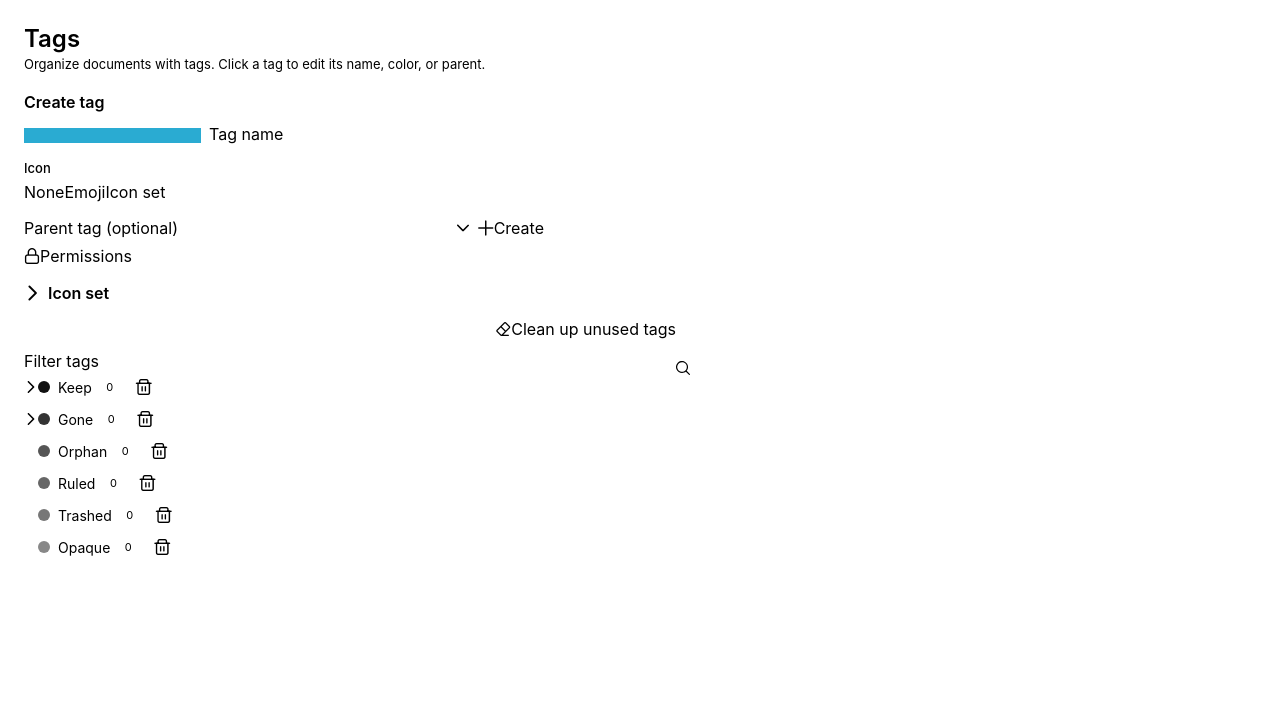
Test: TagList — deleting unused tags from the management tree (#298 parts 1 and 2) › says there is nothing to clean up when no subtree is unused
Step 1. Click the button with class "tag-cleanup-btn" → (586, 329), box x1=495 y1=319 x2=676 y2=339
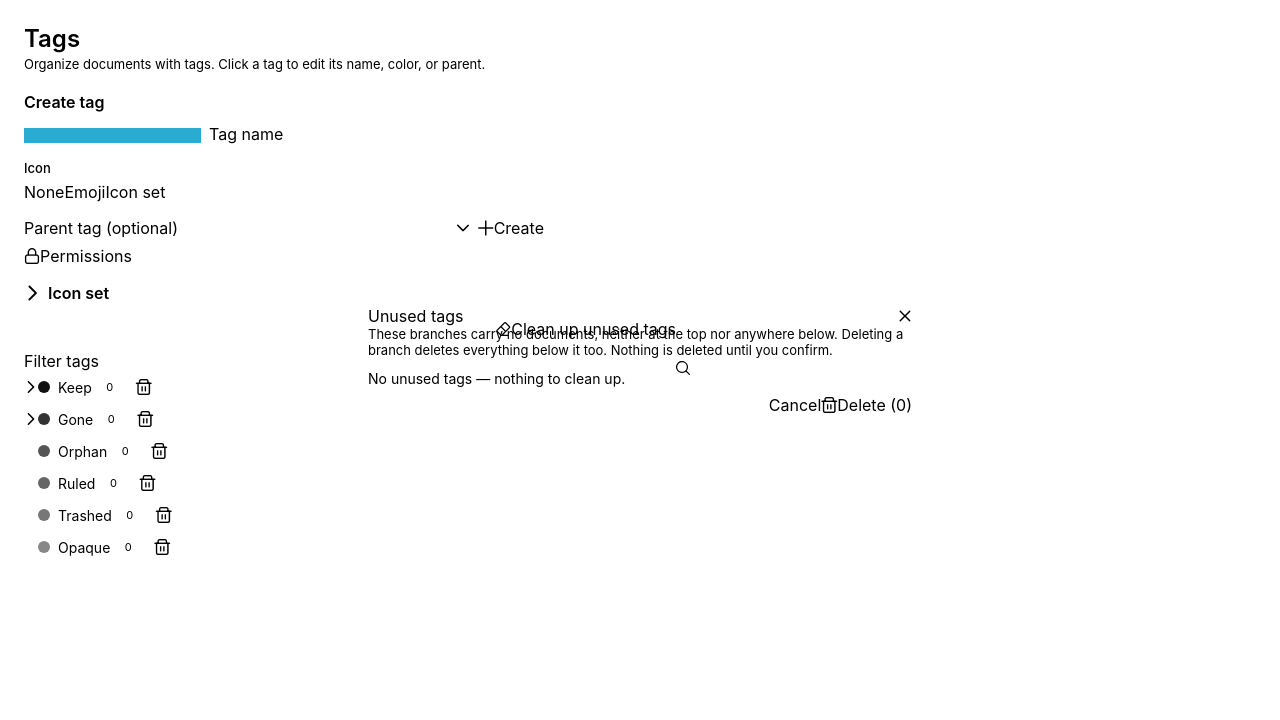
Expected: the text with class "cleanup-empty" reads "No unused tags — nothing to clean up.", x1=368 y1=370 x2=625 y2=386
Expected: the button with class "cleanup-confirm-btn" is disabled, x1=821 y1=394 x2=912 y2=414
